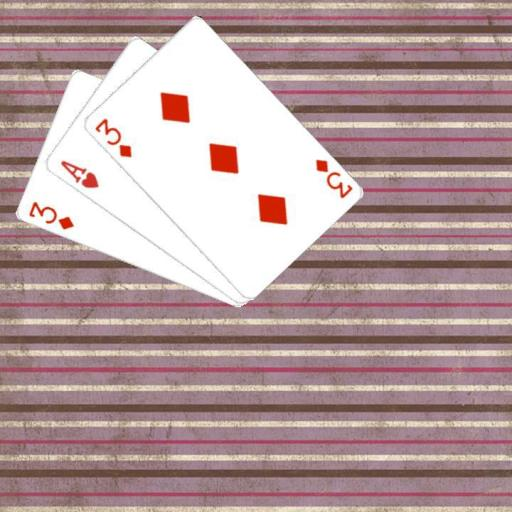3D: (91, 115, 134, 160), (312, 156, 354, 201), (25, 198, 75, 232)
AH: (57, 157, 100, 191)
